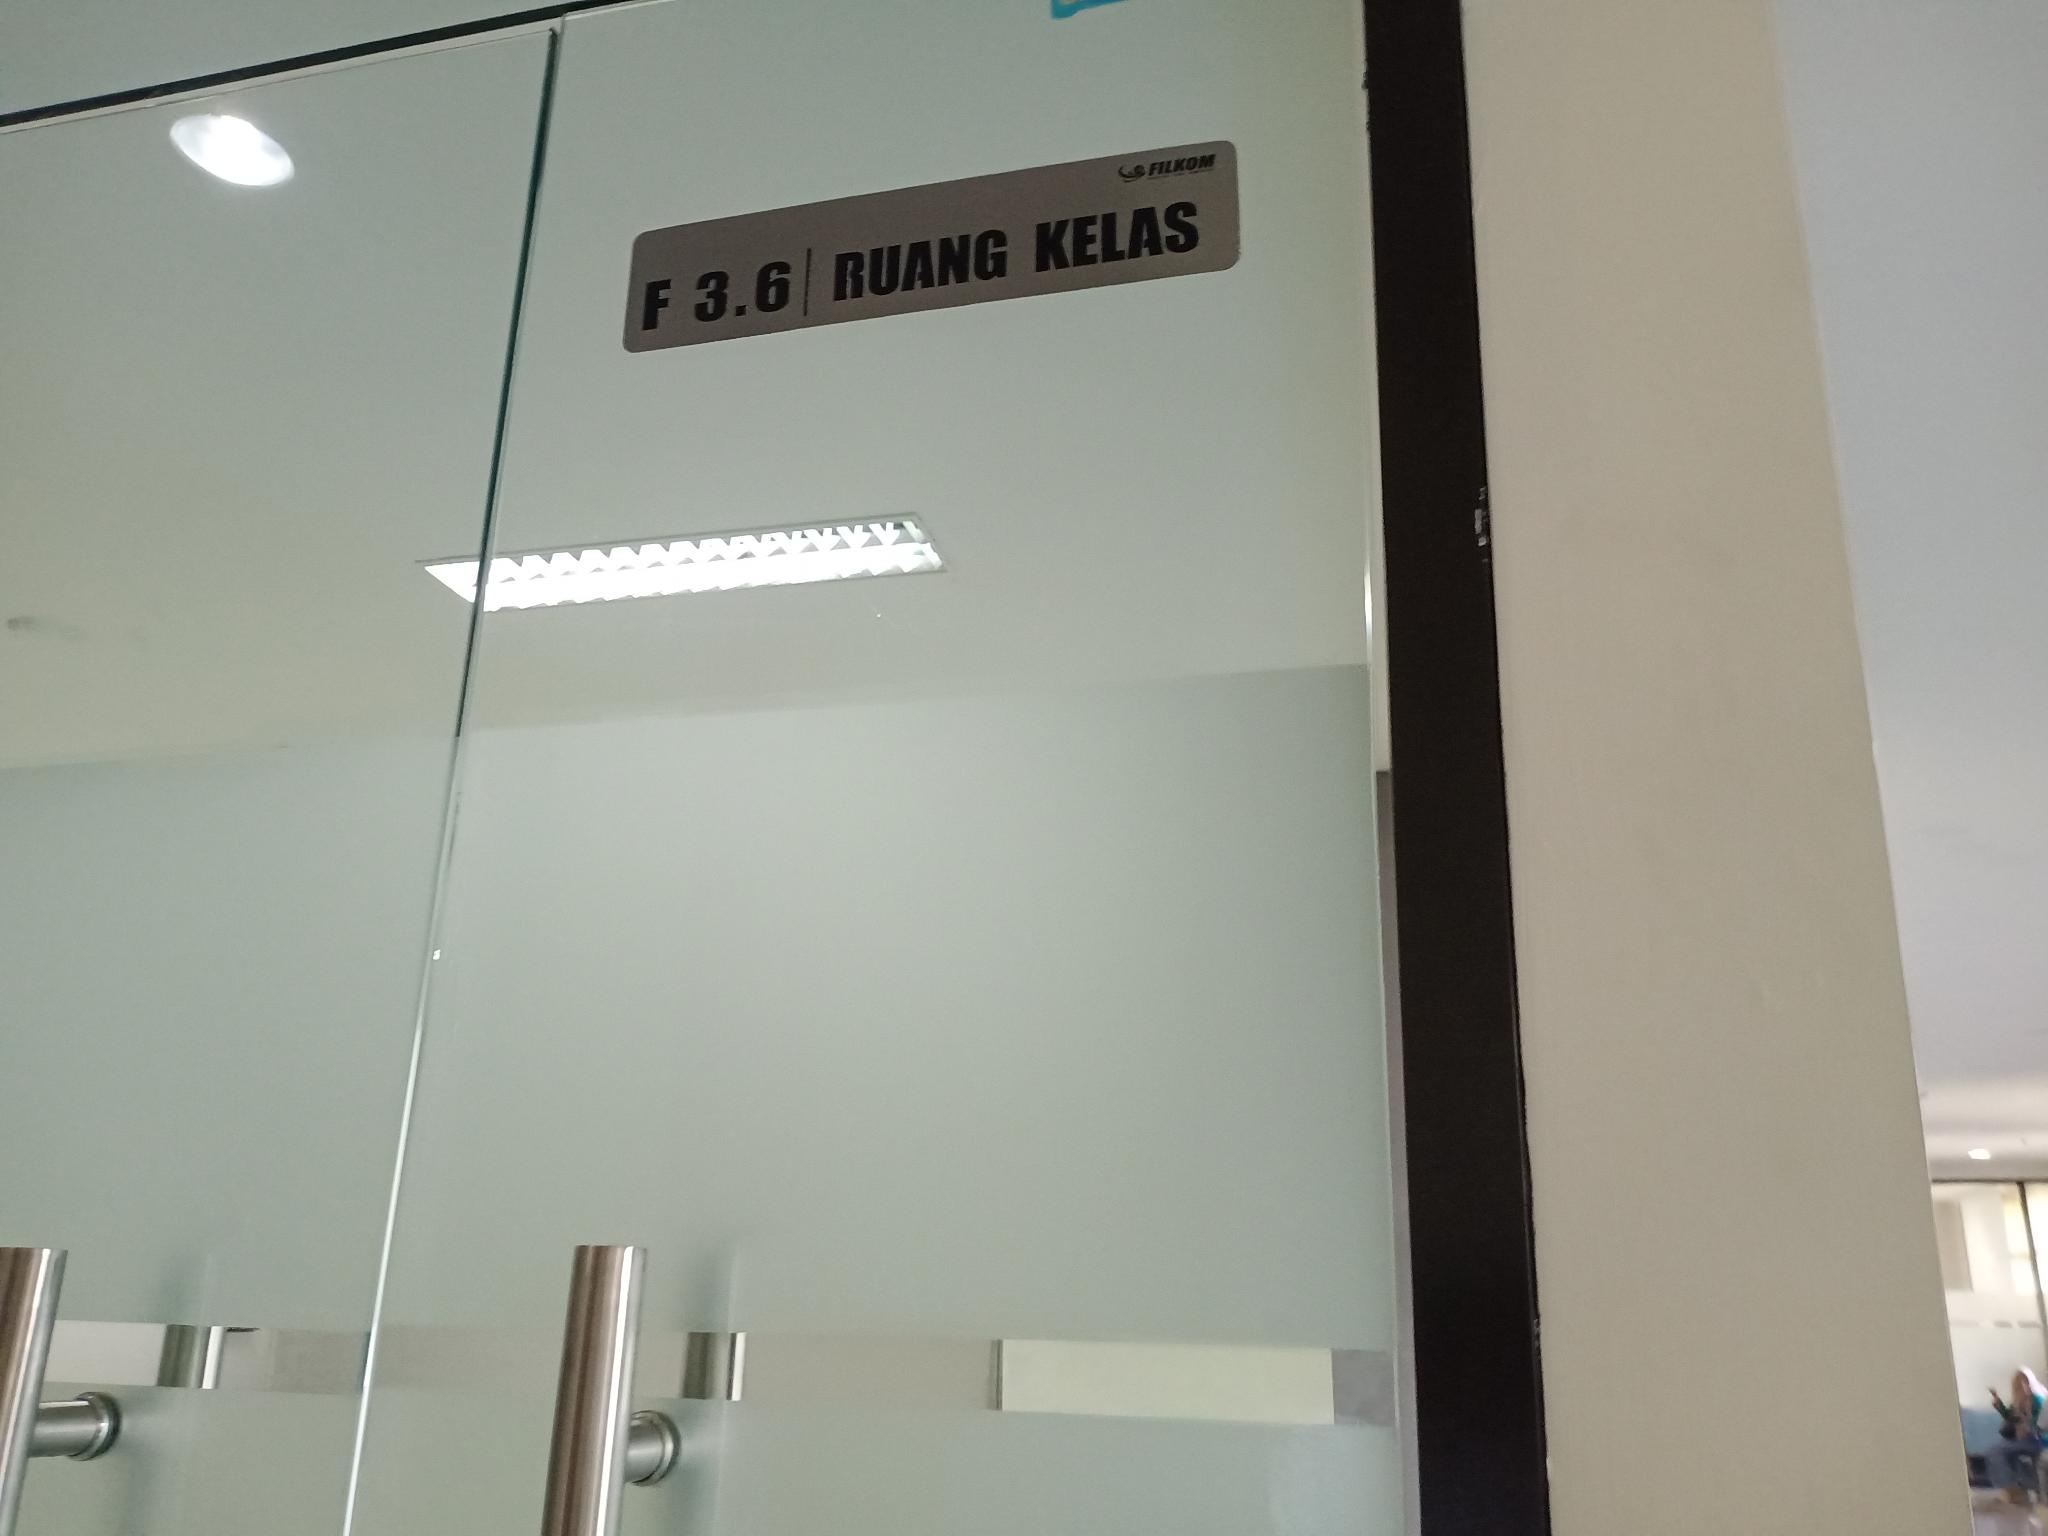plate: (622, 137, 1242, 355)
